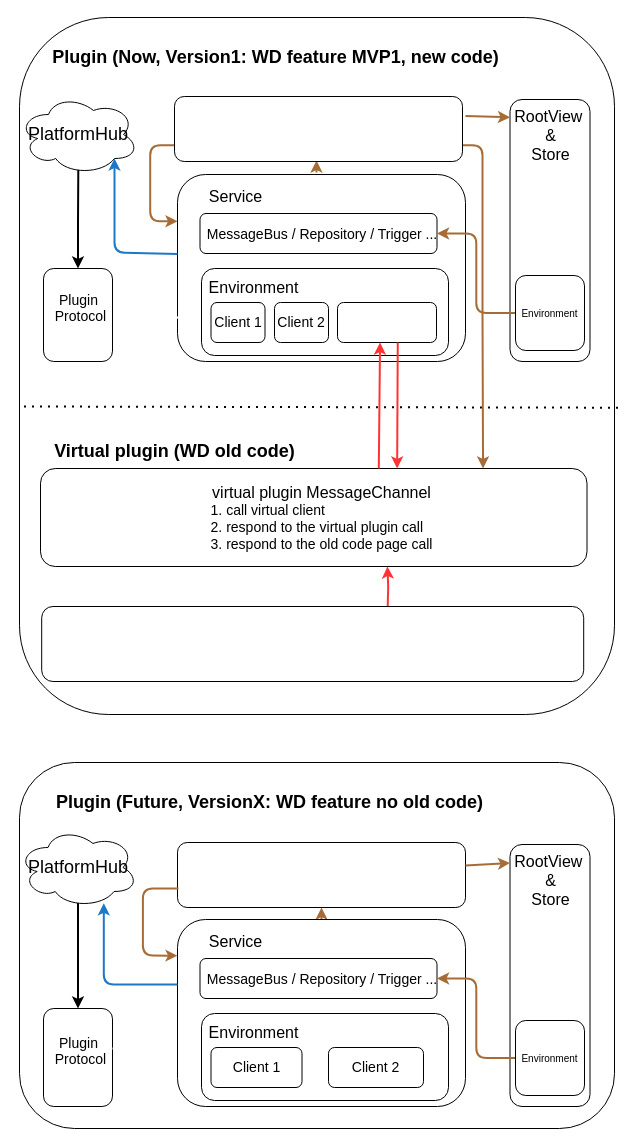
Image size: 638x1146. Some labels were removed from this diagram. The box of each missing label's shape, as (x1, y1, x2, y2) in pixels:
Old Code: (41, 606, 584, 682)
ViewFactory 1. create root view: (176, 842, 466, 908)
ViewFactory 1. create root view 2. query a view for the virtual plugin: (174, 96, 462, 162)
virtual plugin client: (336, 302, 436, 342)
